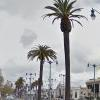Palm tree: (45, 1, 83, 89)
